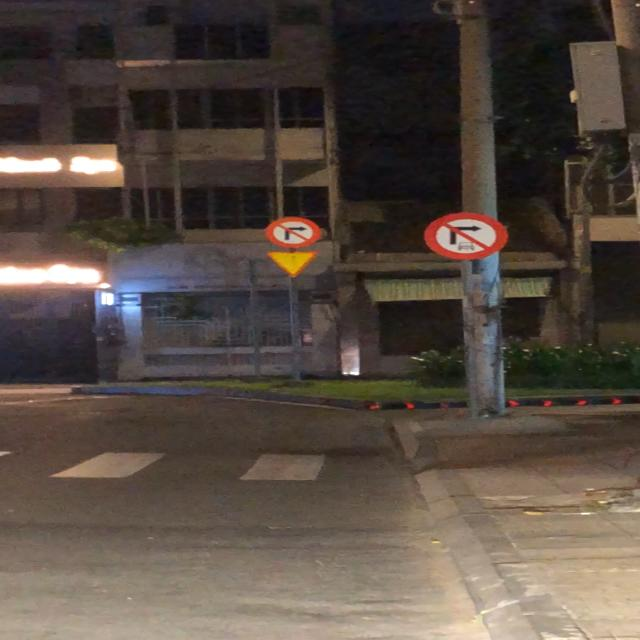Bien bao cam re phai: (260, 214, 324, 249)
Bien bao cam xe o to re phai: (422, 210, 512, 263)
Bien bao giao nhau voi duong uu tien: (262, 248, 320, 279)
